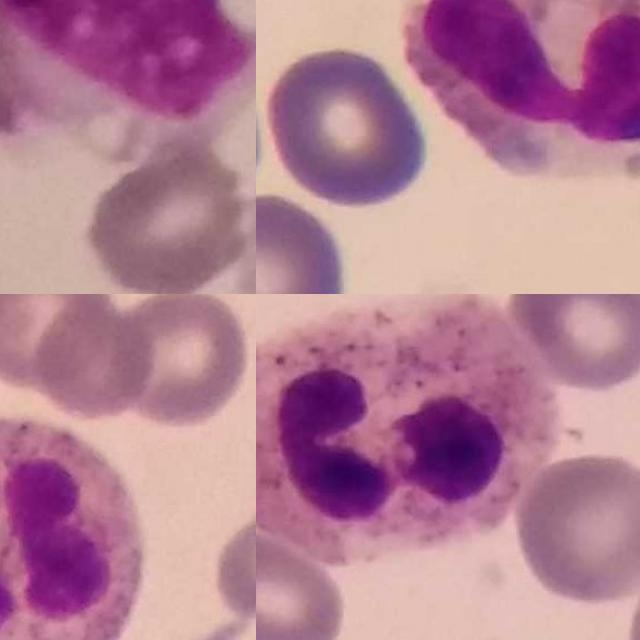Eosinophil: (405, 0, 640, 185)
Monocyte: (0, 0, 256, 145)
Neutrophil: (256, 294, 557, 553), (0, 416, 143, 640)
